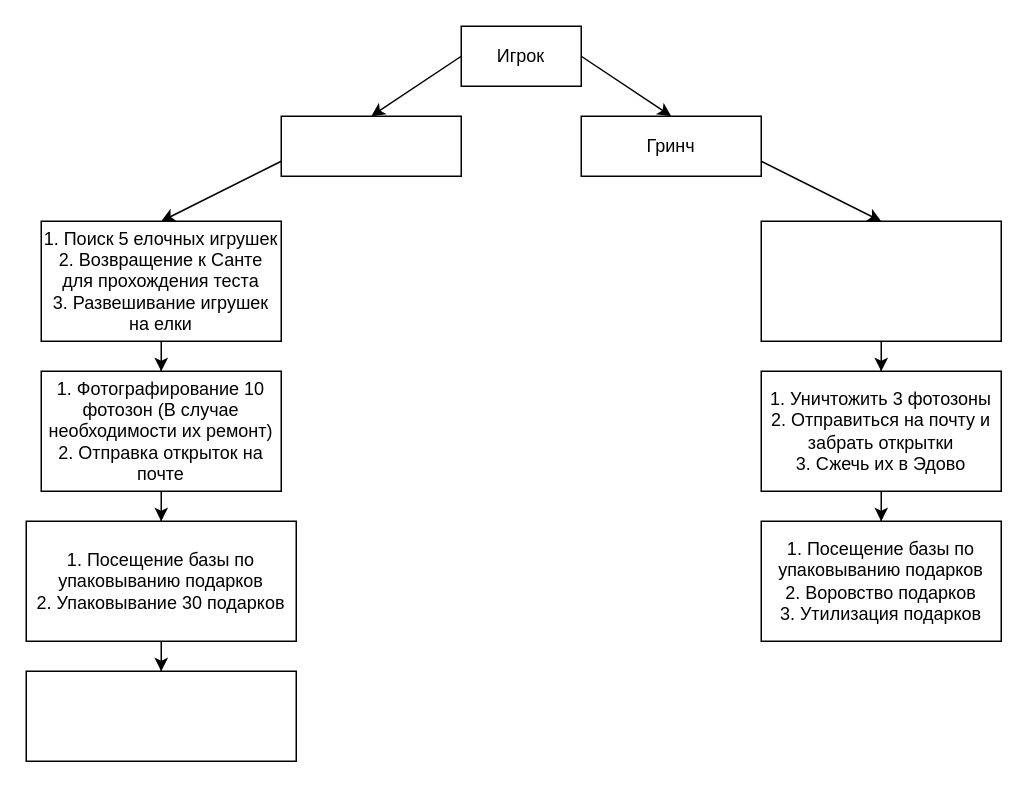
Some shapes in this 1028 by 788 pixel diagram are drawn without their labels. The shapes that lost their labels are listed below. From the top down, each one's centre as x and y in pixels, then its label:
point (370, 145): Сторона Санта-Клауса/Деда Мороза
point (880, 280): 1. Украсть 5 елочных игрушек 2. Спрятать поочередно все елочные игрушки
point (160, 715): 1. Покупка новогодних шаров 2. Развешивание их на домах
